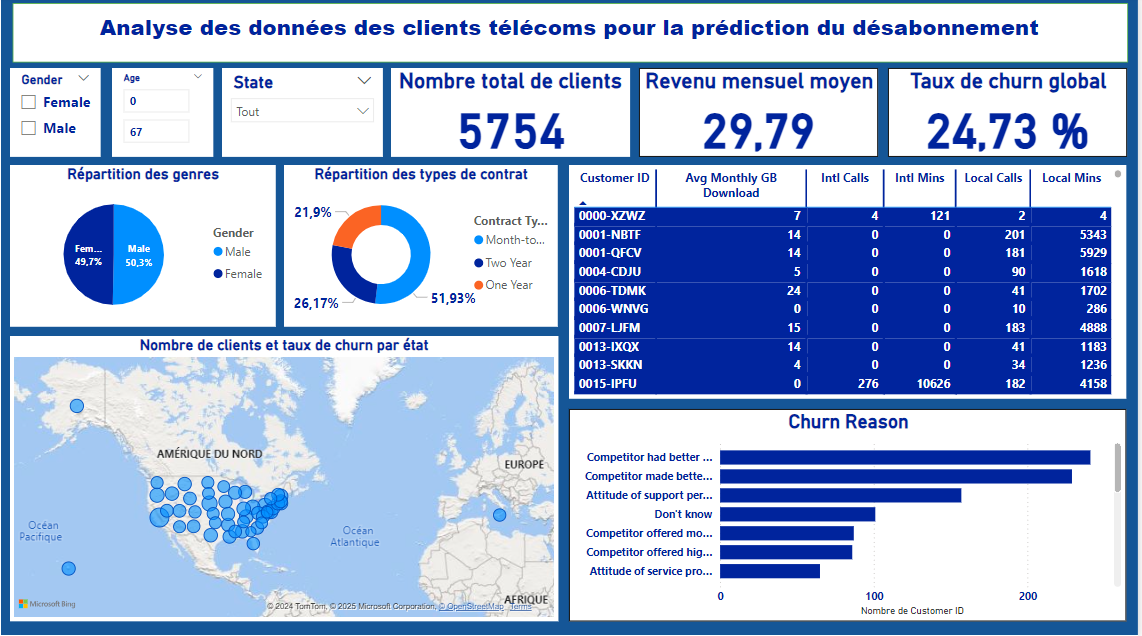

The dashboard page shown, as its layout file describes it:
{"tool":"powerbi","page":{"name":"Client","canvas":[1280,720],"ordinal":0},"visuals":[{"type":"card","title":"Nombre total de clients","fields":{"Values":["Count(Databel - Data.Customer ID)"]},"box":[439.5,79.7,268.6,100.2],"z":0},{"type":"card","title":"Revenu mensuel moyen","fields":{"Values":["Avg(Databel - Data.Monthly Charge)"]},"box":[718.4,79.7,268.6,100.2],"z":1000},{"type":"card","title":"Taux de churn global","fields":{"Values":["Databel - Data.pourcentage"]},"box":[998.6,79.7,268.6,100.2],"z":2000},{"type":"slicer","fields":{"Values":["Databel - Data.Gender"]},"box":[11.6,79.7,101.5,100.2],"z":3000},{"type":"slicer","fields":{"Values":["Databel - Data.Age"]},"box":[125.9,79.7,114.4,100.2],"z":4000},{"type":"slicer","fields":{"Values":["Databel - Data.State"]},"box":[249.3,79.7,181.2,100.2],"z":5000},{"type":"pieChart","title":"Répartition des genres","fields":{"Category":["Databel - Data.Gender"],"Y":["CountNonNull(Databel - Data.Customer ID)"]},"box":[11.6,188.9,299.4,182.5],"z":6000},{"type":"map","title":" Nombre de clients et taux de churn par état","fields":{"Category":["Databel - Data.State"],"Size":["Databel - Data.pourcentage"]},"box":[11.6,381.7,616.9,321.3],"z":7000},{"type":"donutChart","title":"Répartition des types de contrat ","fields":{"Category":["Databel - Data.Contract Type"],"Y":["CountNonNull(Databel - Data.Customer ID)"]},"box":[320,188.9,308.4,182.5],"z":8000},{"type":"tableEx","fields":{"Values":["Databel - Data.Customer ID","Databel - Data.Avg Monthly GB Download","Databel - Data.Intl Calls","Databel - Data.Intl Mins","Databel - Data.Local Calls","Databel - Data.Local Mins"]},"box":[640,188.9,627.1,263.5],"z":9000},{"type":"barChart","title":" Churn Reason","fields":{"Category":["Databel - Data.Churn Reason"],"Y":["CountNonNull(Databel - Data.Customer ID)"]},"box":[640,463.9,627.1,239],"z":10000},{"type":"textbox","box":[60.4,11.6,1159.2,51.4],"z":11000}]}

Visuals, with their boxes in screenshot pixels (x1, y1, x2, y2), scaled from the page's 1280x720 canvas onto the 1142x636 screenshot:
"Nombre total de clients" card: locate(392, 70, 632, 159)
"Revenu mensuel moyen" card: locate(641, 70, 881, 159)
"Taux de churn global" card: locate(891, 70, 1131, 159)
slicer - Databel - Data.Gender: locate(10, 70, 101, 159)
slicer - Databel - Data.Age: locate(112, 70, 214, 159)
slicer - Databel - Data.State: locate(222, 70, 384, 159)
"Répartition des genres" pieChart: locate(10, 167, 277, 328)
" Nombre de clients et taux de churn par état" map: locate(10, 337, 561, 621)
"Répartition des types de contrat " donutChart: locate(286, 167, 561, 328)
tableEx - Databel - Data.Customer ID x Databel - Data.Avg Monthly GB Download: locate(571, 167, 1130, 400)
" Churn Reason" barChart: locate(571, 410, 1130, 621)
textbox: locate(54, 10, 1088, 56)
